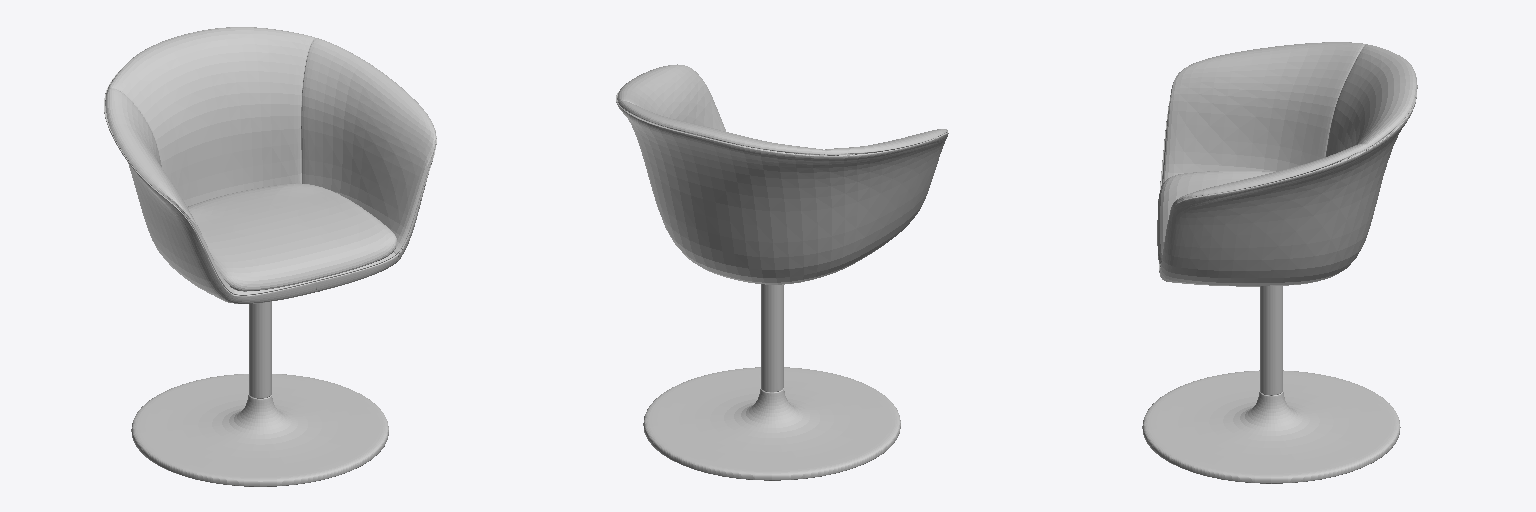
File: armchair 008.obj
The picture shows the model from 3 angles: view 1: azimuth 30°, elevation 25°; view 2: azimuth 150°, elevation 25°; view 3: azimuth 270°, elevation 25°; orthographic projection.
Visible parts, largest first — view 1: obj_02, obj_03, obj_01; view 2: obj_02, obj_03; view 3: obj_02, obj_03, obj_01.
Boxes of the visible parts, x1,y1,x2,y2 form: obj_02: [104, 27, 436, 303]; obj_03: [131, 302, 388, 486]; obj_01: [187, 183, 396, 291]; obj_02: [616, 64, 948, 284]; obj_03: [643, 284, 900, 480]; obj_02: [1159, 42, 1417, 286]; obj_03: [1142, 286, 1400, 483]; obj_01: [1157, 171, 1272, 264].
Bounding box in the file's own units: 22.44 × 26.49 × 19.